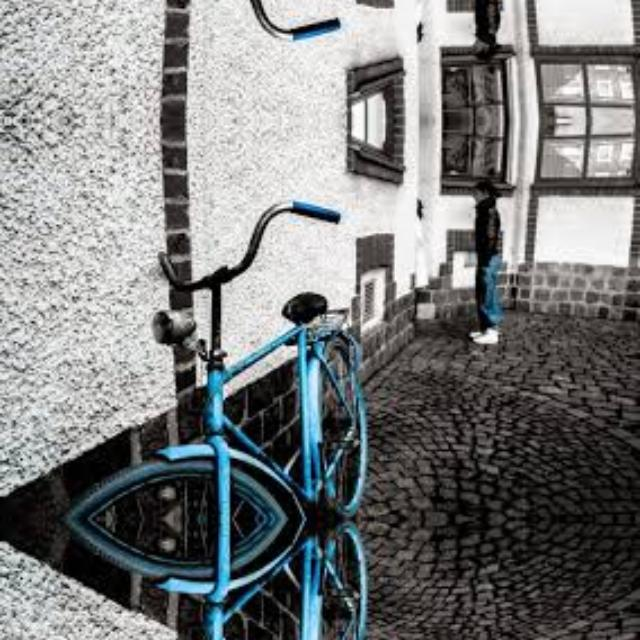obstacle: (65, 185, 402, 520), (65, 518, 402, 640), (65, 0, 402, 55)
